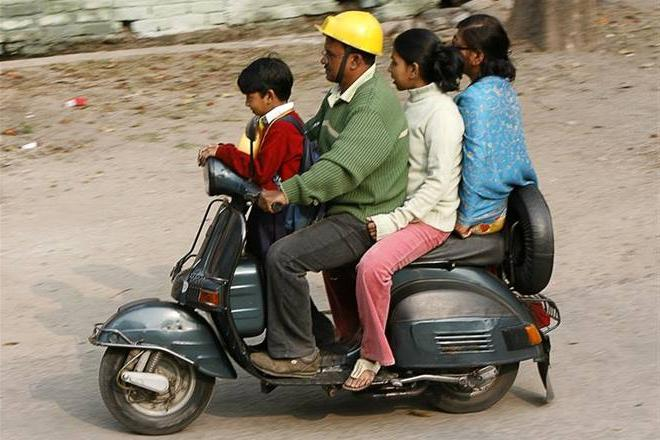Helmet: (320, 10, 386, 102)
